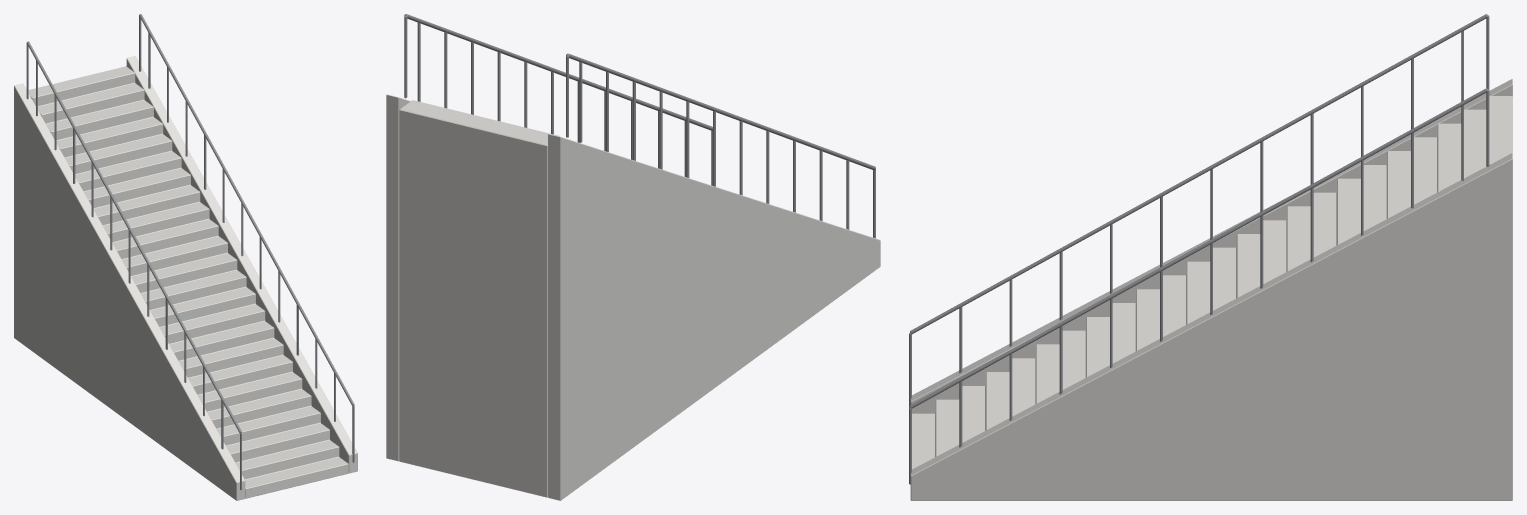
Rendered from Stairs.glb.
3 views of the same model, side by side, from view 1: azimuth 30°, elevation 25°; view 2: azimuth 150°, elevation 25°; view 3: azimuth 270°, elevation 25° (orthographic). The views are drawn at different scales.
Parts seen in each view (by area): view 1: Stairs; view 2: Stairs; view 3: Stairs.
Boxes of the visible parts, x1,y1,x2,y2 form: Stairs: [14, 14, 357, 500]; Stairs: [386, 14, 880, 500]; Stairs: [909, 14, 1512, 500].
Size of the model in its own units: 2.12 by 5.04 by 6.74.
1 material, 1 textured.
